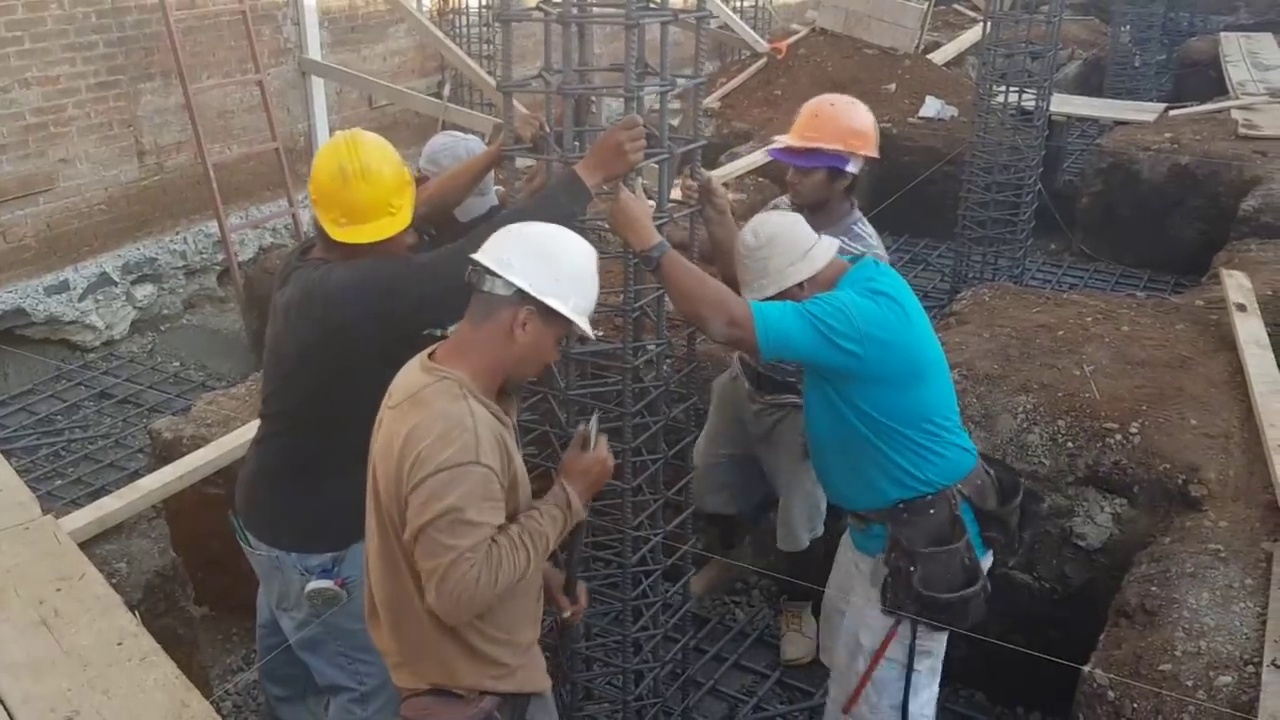helmet: (461, 217, 601, 335), (303, 127, 413, 250), (777, 88, 897, 164)
helmet-off: (730, 211, 859, 311), (413, 123, 500, 249)
helmet-on: (418, 214, 604, 417), (763, 84, 900, 215)
person: (642, 109, 988, 709), (675, 84, 894, 658), (362, 219, 613, 716), (223, 125, 416, 714)
